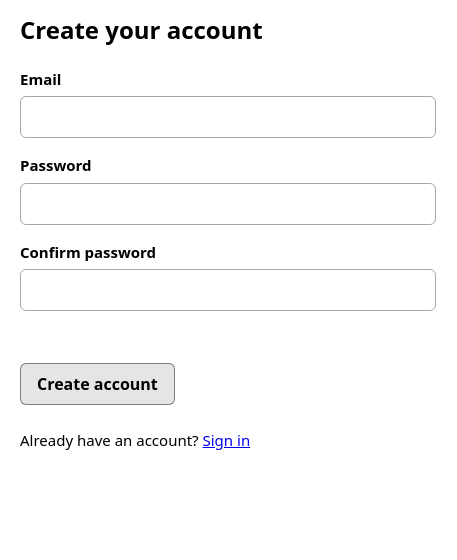
RegisterPage › maps a duplicate-email 400 to the email field and preserves the email
In the field labelled "Email": (228, 117) left=20, top=96, right=436, bottom=138, type "taken@example.com"
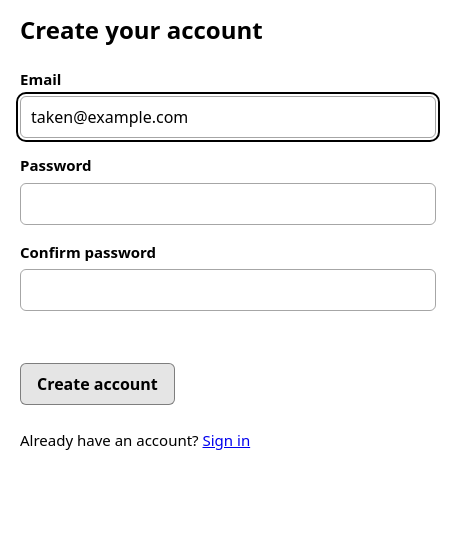
In the password field labelled "Password": (228, 204) left=20, top=183, right=436, bottom=225, type "a-good-password"
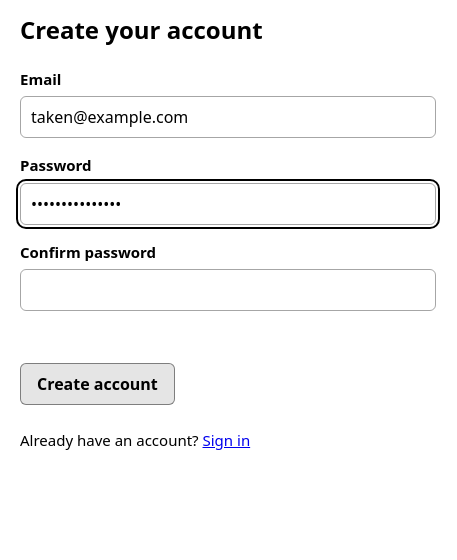
In the password field labelled "Confirm password": (228, 290) left=20, top=269, right=436, bottom=311, type "a-good-password"
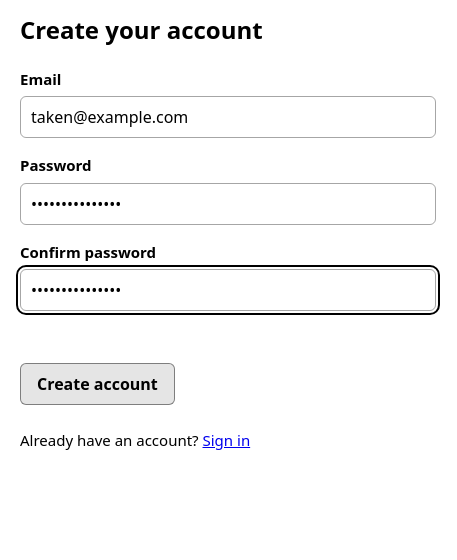
Click the button "Create account": (97, 384) left=20, top=363, right=175, bottom=405
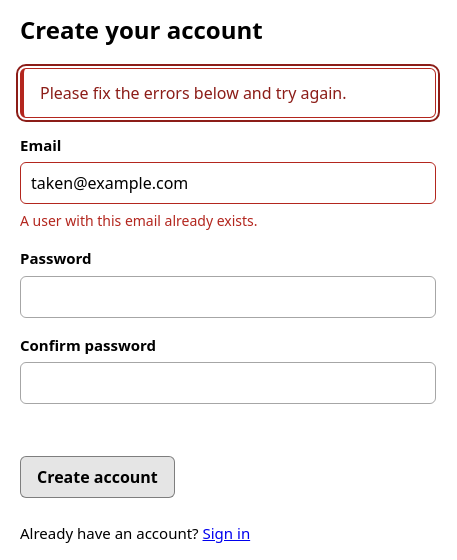
Result: the text "A user with this email already exists." is shown at left=20, top=211, right=258, bottom=230
Result: the password field labelled "Password" is empty at left=20, top=276, right=436, bottom=318
Result: the password field labelled "Confirm password" is empty at left=20, top=362, right=436, bottom=404
